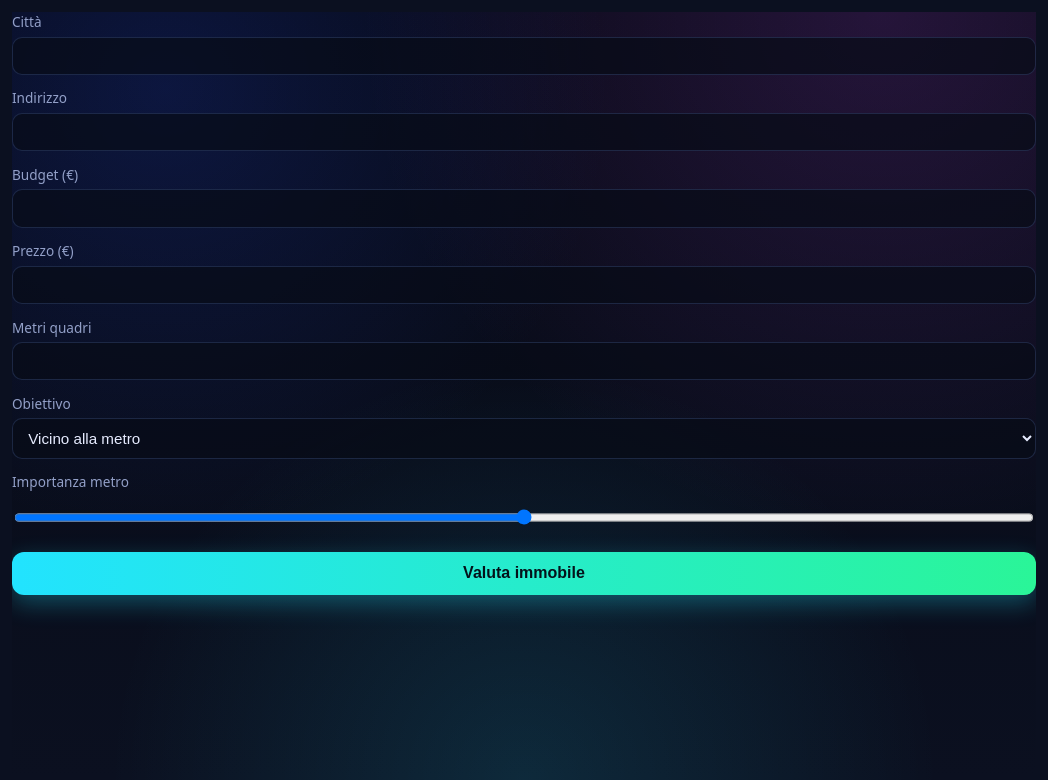
EvaluationForm › shows a validation error when mq is zero
Step 1. Type "Milano" into the field labelled "Città" → coordinates (524, 56), box [12,37,1036,75]
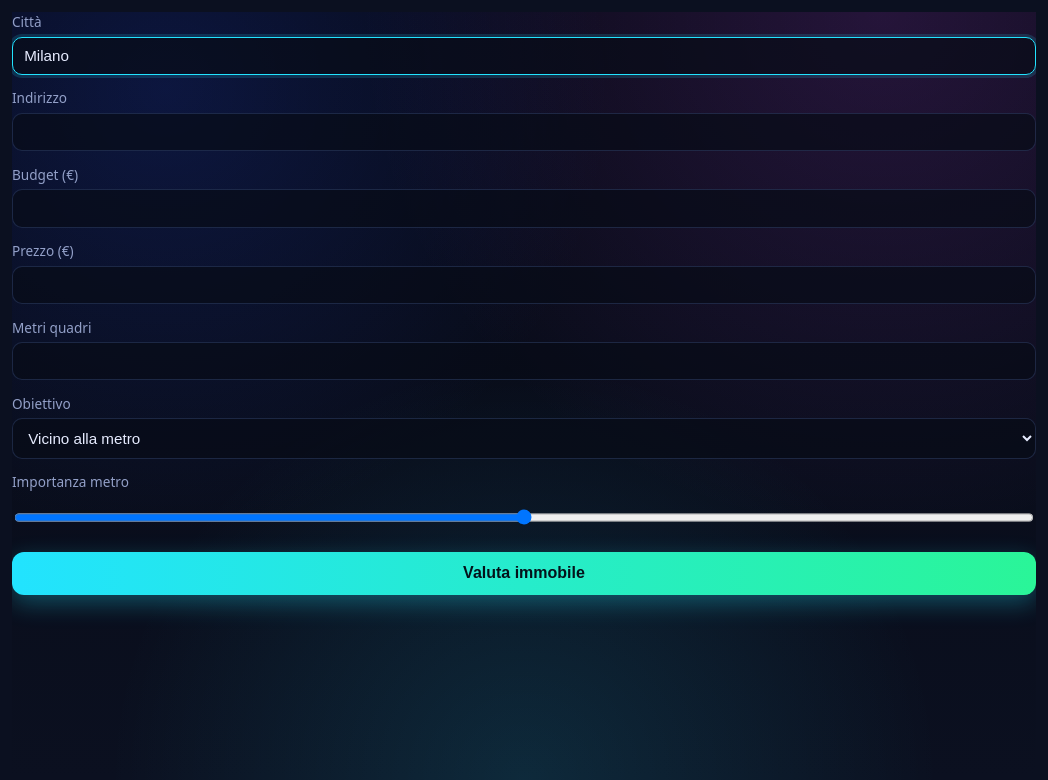
Step 2. Type "Via Roma 1" into the field labelled "Indirizzo" → coordinates (524, 132), box [12,113,1036,151]
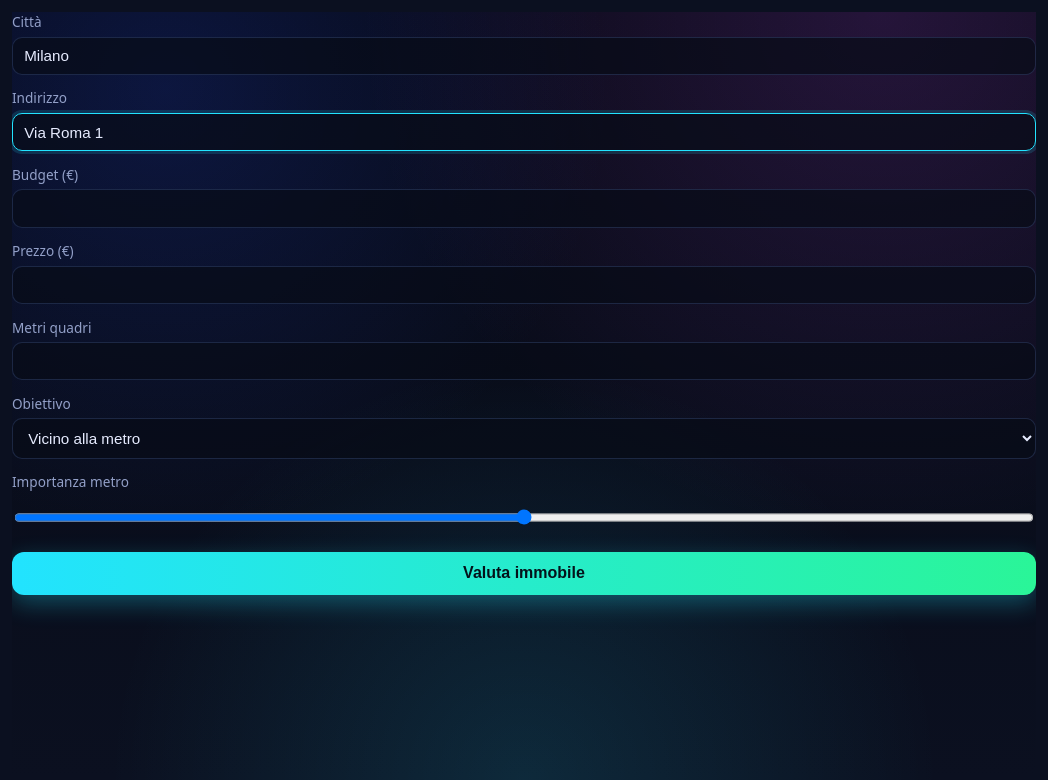
Step 3. Type "300000" into the number field labelled "Budget (€)" → coordinates (524, 208), box [12,189,1036,228]
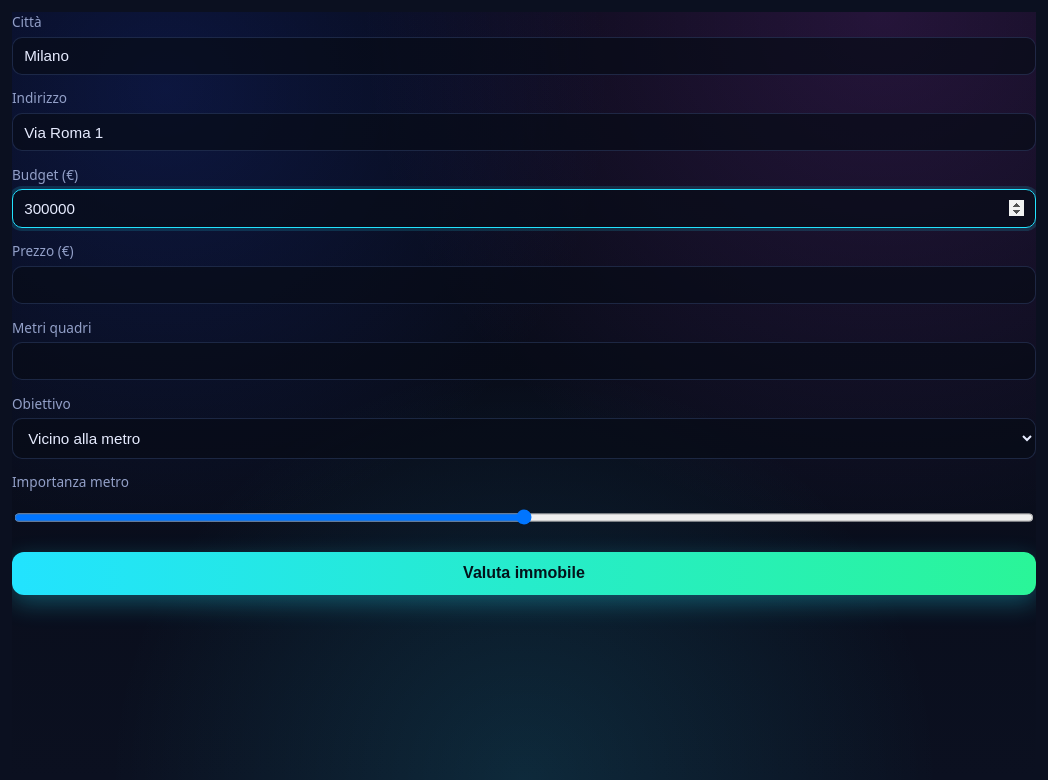
Step 4. Type "250000" into the number field labelled "Prezzo (€)" → coordinates (524, 285), box [12,266,1036,304]
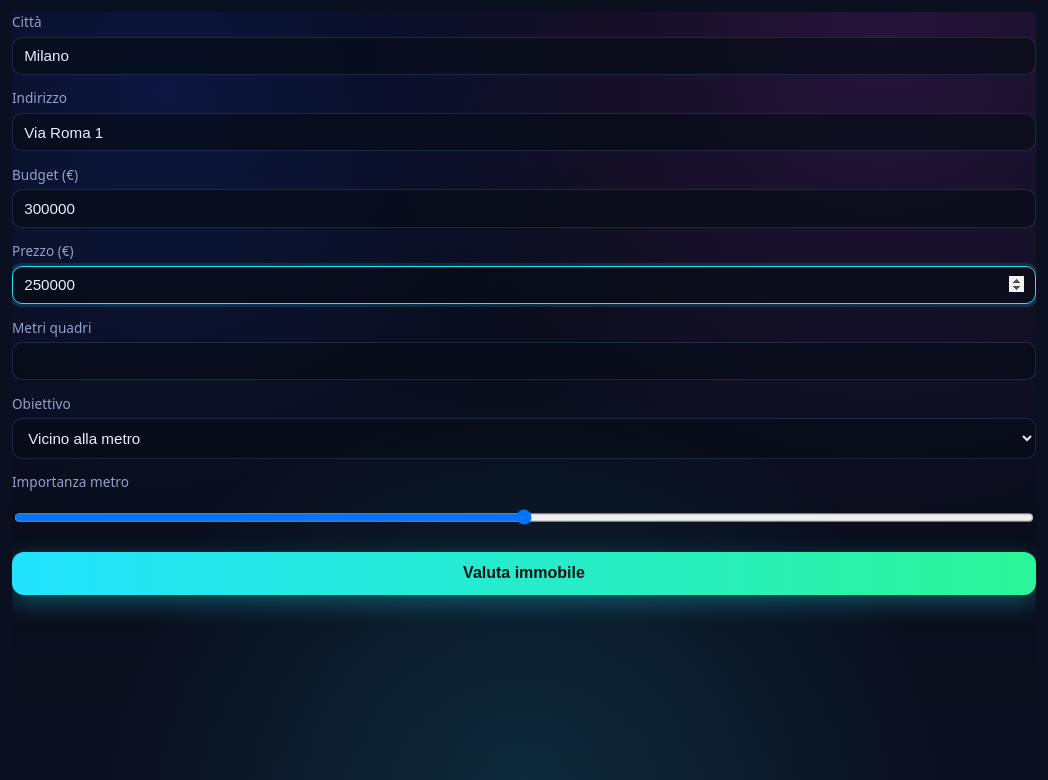
Step 5. Type "0" into the number field labelled "Metri quadri" → coordinates (524, 361), box [12,342,1036,380]
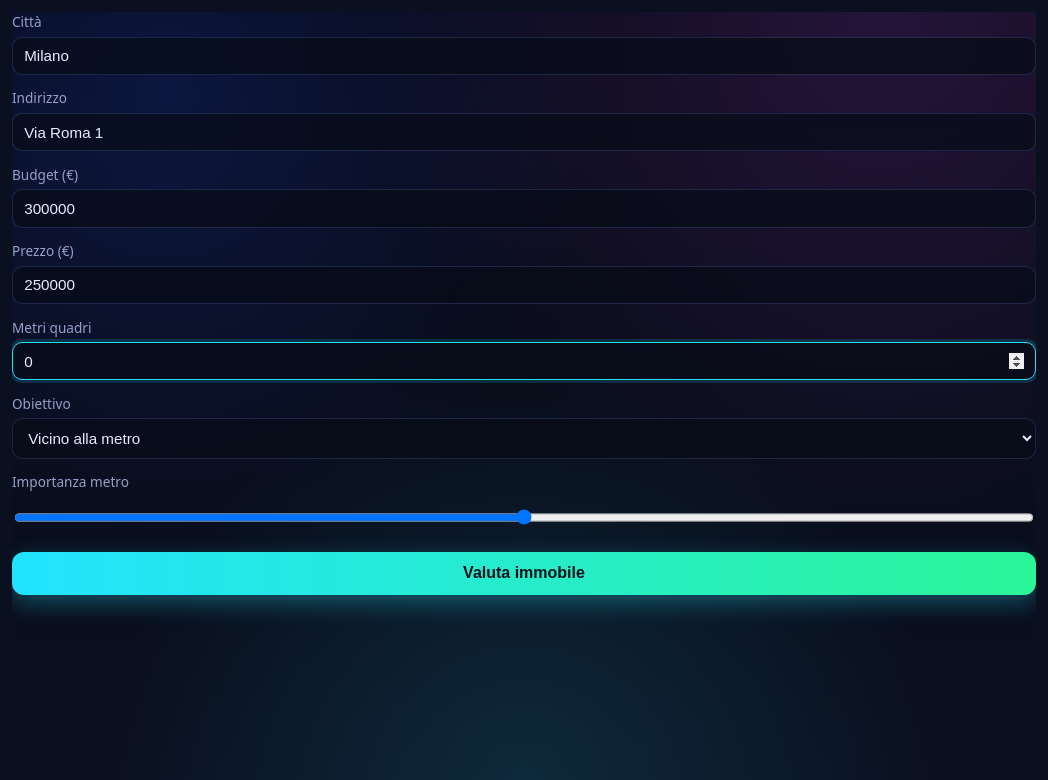
Step 6. Click the button "Valuta immobile" → coordinates (524, 573), box [12,552,1036,595]
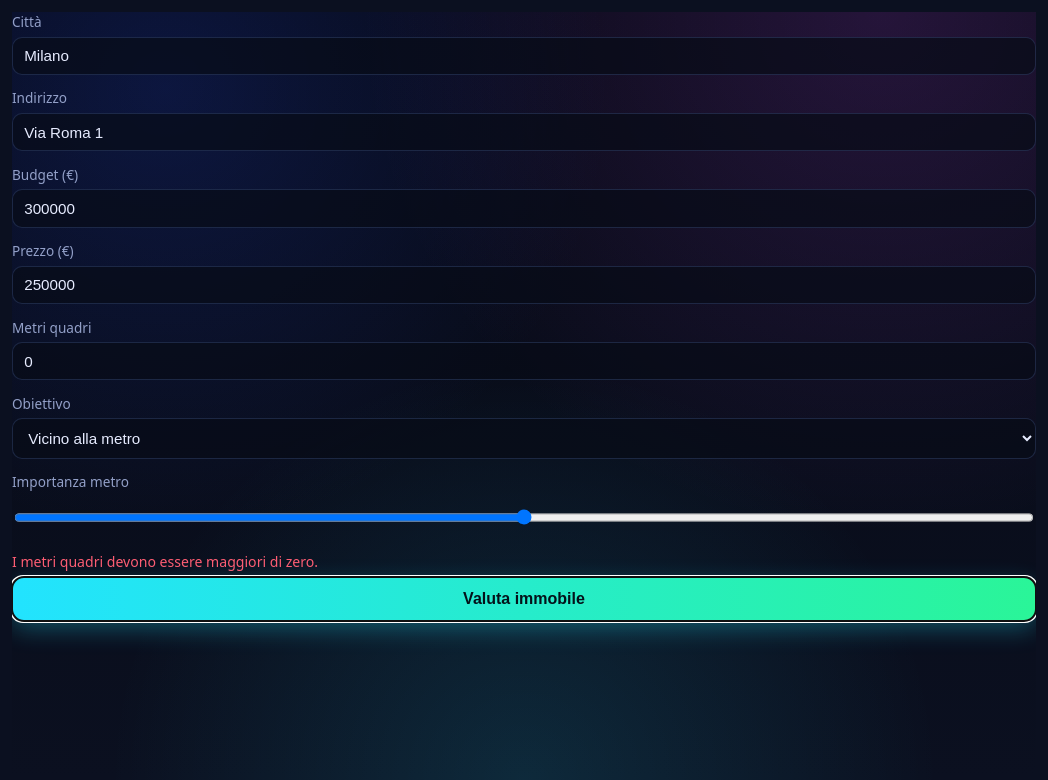
Expected: the message shows "metri quadri", [12,552,318,571]
